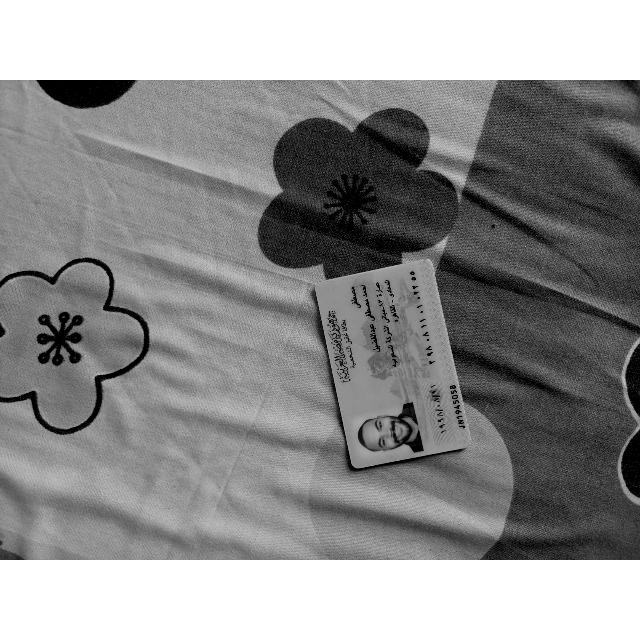id_card: (316, 259, 471, 468), (316, 260, 471, 468)
